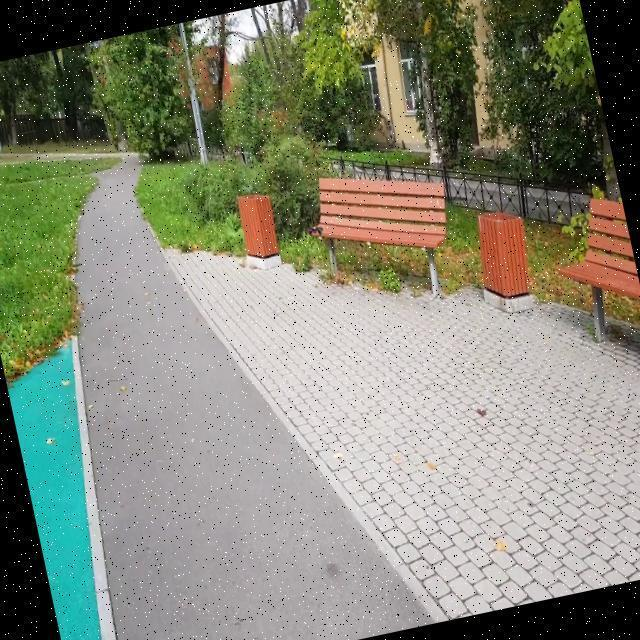Drons: (305, 222, 326, 240)
